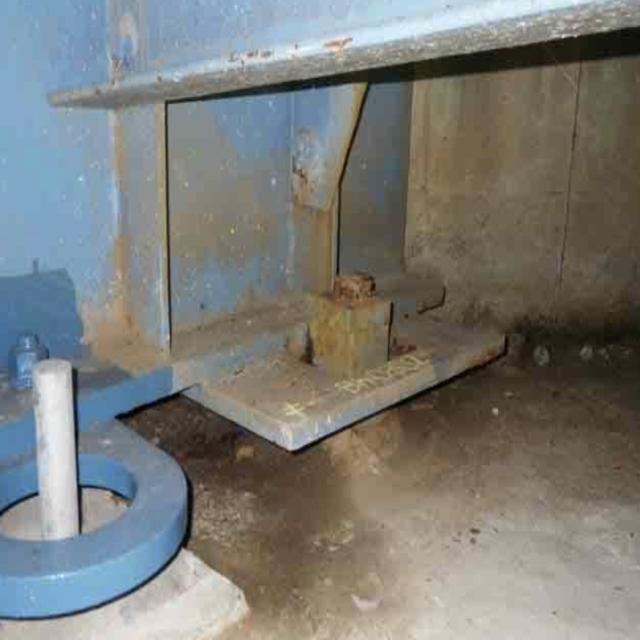corrosion: (302, 229, 414, 390)
